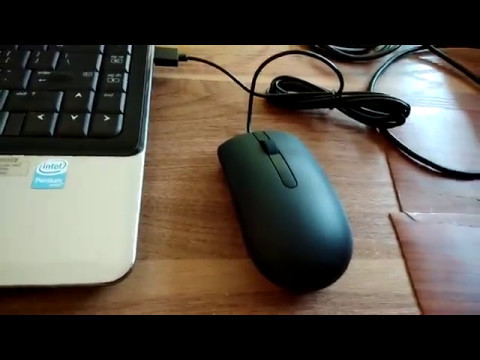dell-mouse-ms116: (146, 47, 458, 297)
